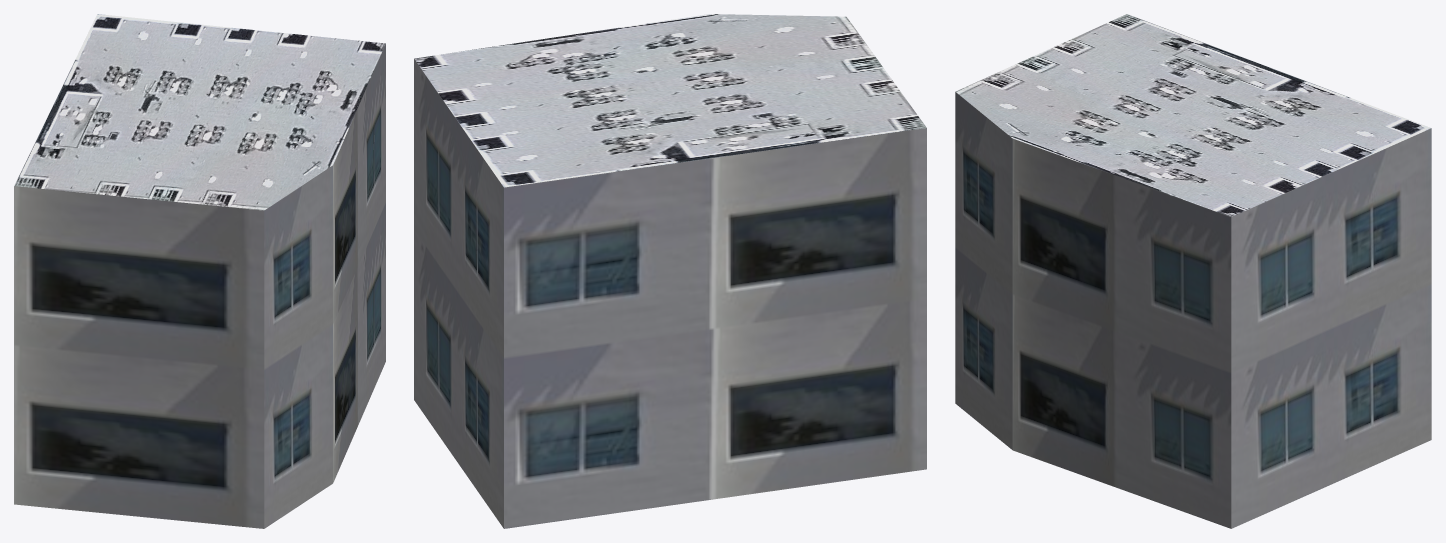
The model's file is ResTex__1704.fbx.
The picture shows the model from 3 angles, left to right: view 1: azimuth 30°, elevation 25°; view 2: azimuth 150°, elevation 25°; view 3: azimuth 270°, elevation 25°; orthographic projection. The views are drawn at different scales.
Parts seen in each view (by area): view 1: CityEngineMaterial_10_m, CityEngineMaterial_4_m; view 2: CityEngineMaterial_10_m, CityEngineMaterial_4_m; view 3: CityEngineMaterial_10_m, CityEngineMaterial_4_m.
Boxes of the visible parts, x1,y1,x2,y2 form: CityEngineMaterial_10_m: (14, 44, 385, 528); CityEngineMaterial_4_m: (14, 14, 385, 210); CityEngineMaterial_10_m: (414, 59, 926, 528); CityEngineMaterial_4_m: (414, 14, 926, 187); CityEngineMaterial_10_m: (955, 92, 1431, 528); CityEngineMaterial_4_m: (955, 14, 1431, 216).
Size of the model in its own units: 8.38 by 6 by 8.31.
Materials: 2 (2 with a texture image).
